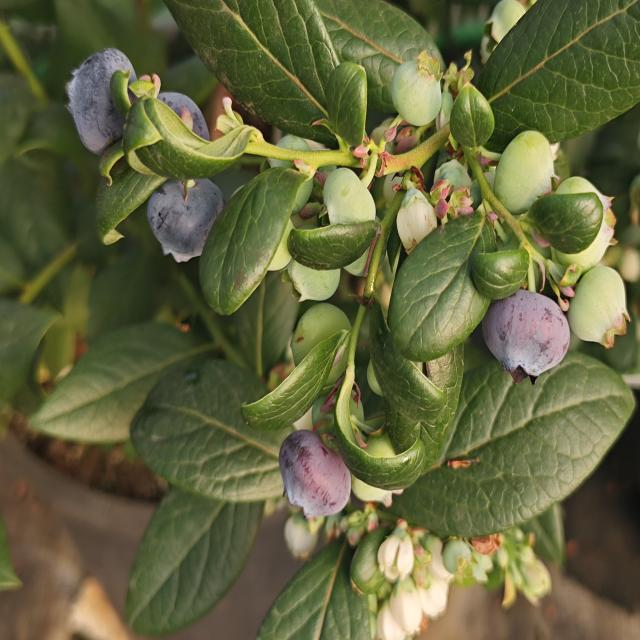ripe: (476, 284, 578, 389), (281, 420, 354, 535), (154, 166, 225, 254), (61, 40, 123, 138), (142, 76, 212, 161)
